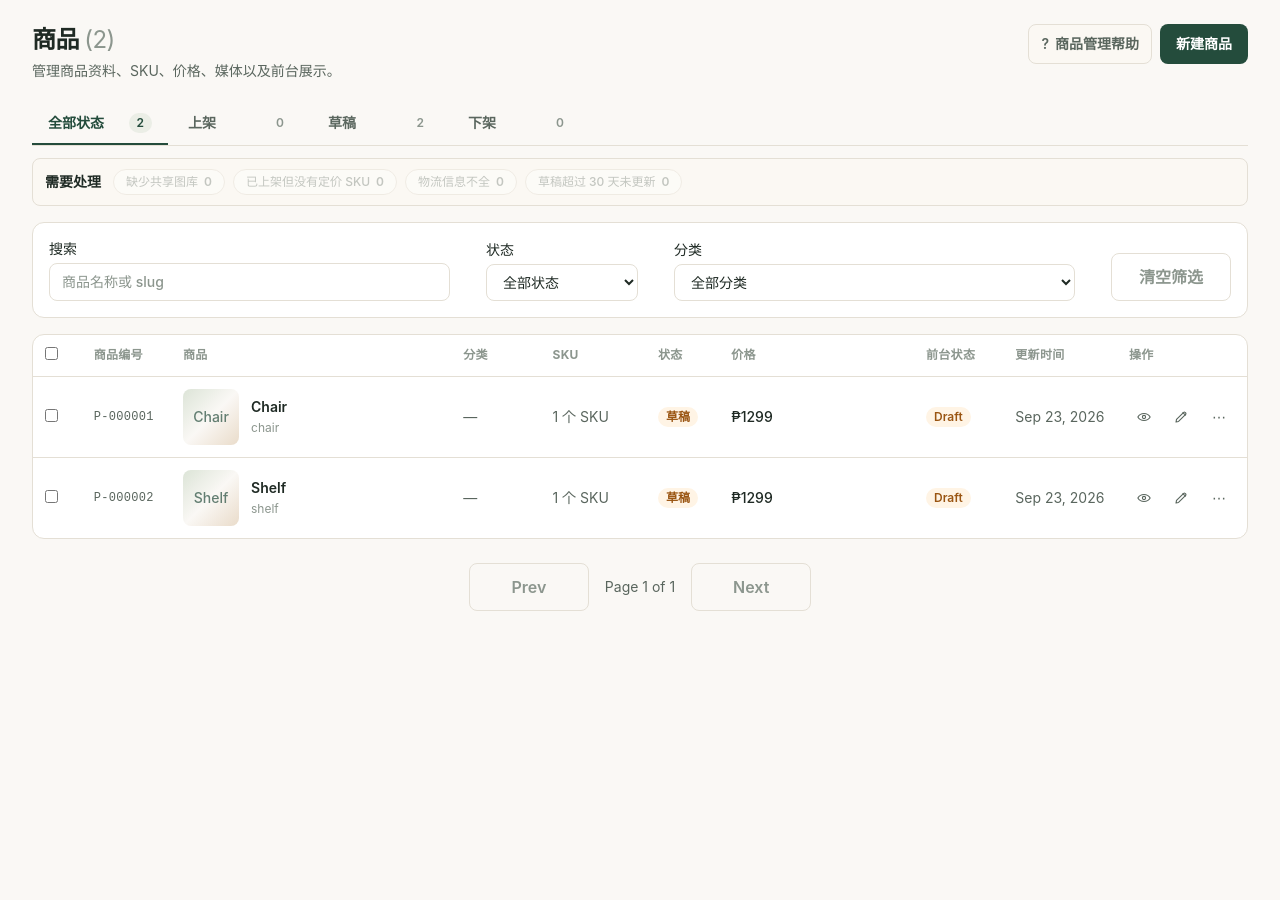
Test: AdminProductsPage bulk delete › selects individual rows and shows the bulk bar with the count
Click the checkbox named "选择 Chair". click: (52, 415)
box: [45,409,58,422]
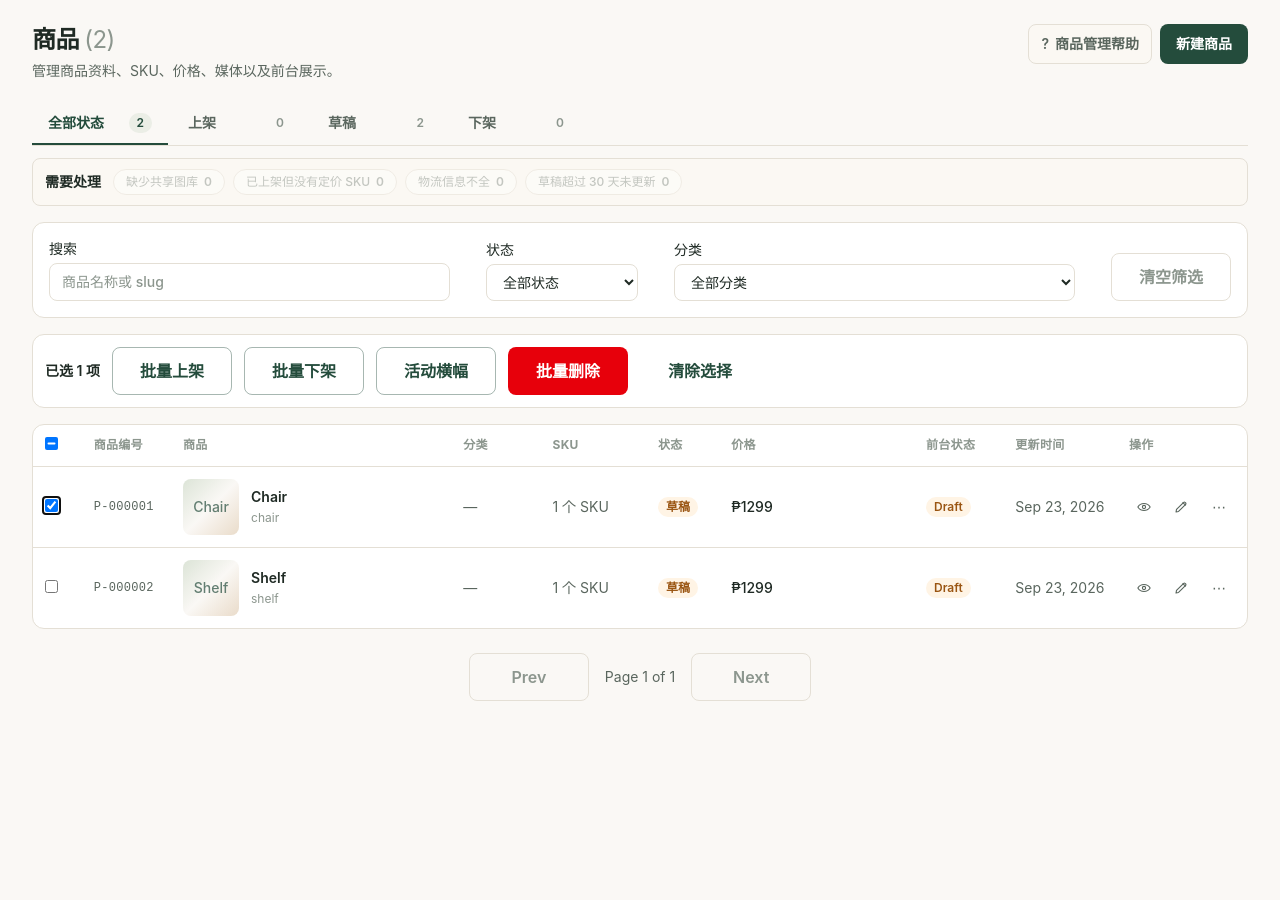
Now the checkbox named "选择 Chair" is checked, box [45,499,58,512]
Now the text "已选 1 项" is shown, box [45,361,100,381]
Now the button "批量删除" is shown, box [508,347,628,395]
